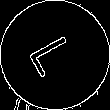L_NE: (26, 29, 84, 81)
